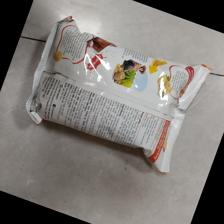Lays: (23, 8, 214, 176)
